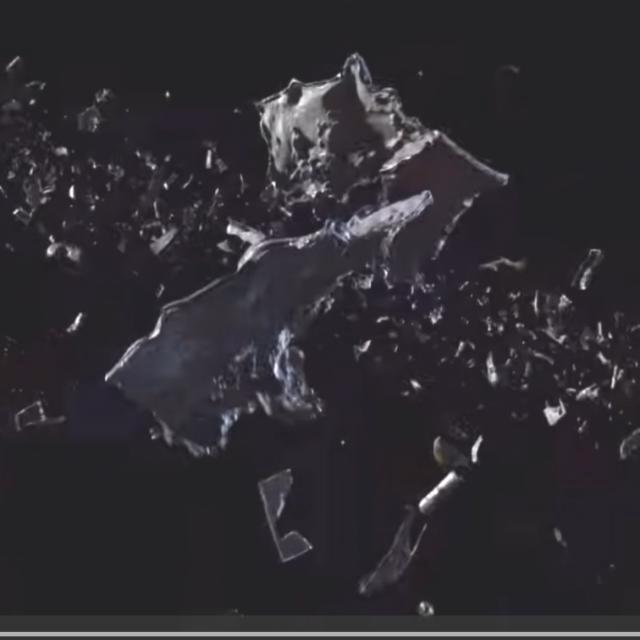large_debris: (87, 38, 519, 458), (339, 415, 491, 611), (1, 126, 73, 234), (251, 463, 324, 566), (7, 372, 84, 444), (565, 231, 617, 300), (536, 374, 579, 436)
